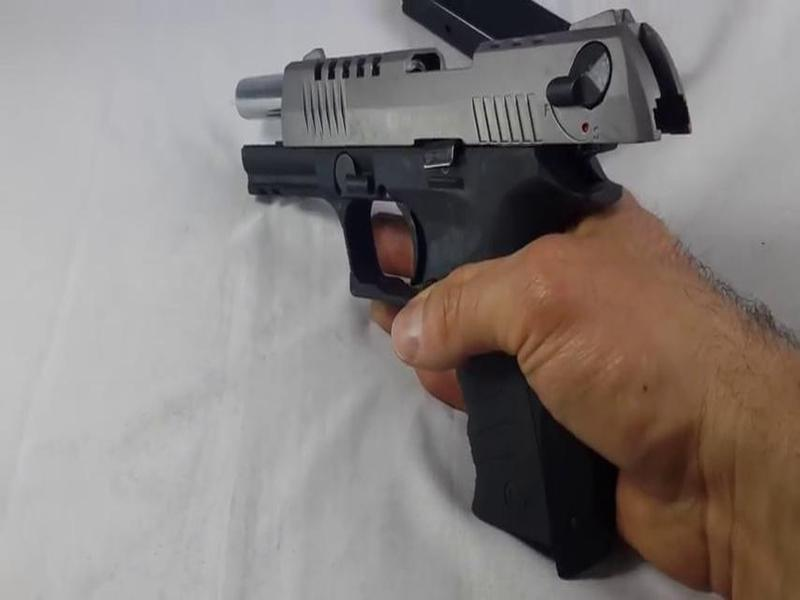Pistola: (203, 15, 693, 560)
